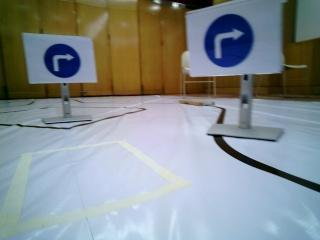right: (190, 8, 278, 71), (26, 34, 100, 84)
